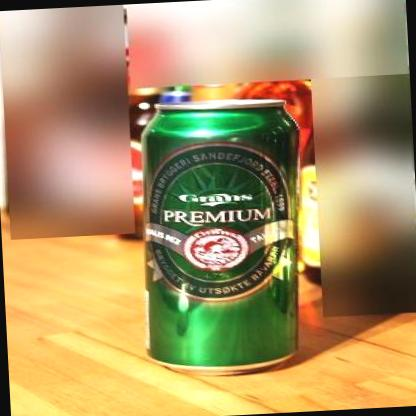alumunium_can: (134, 94, 314, 377)
